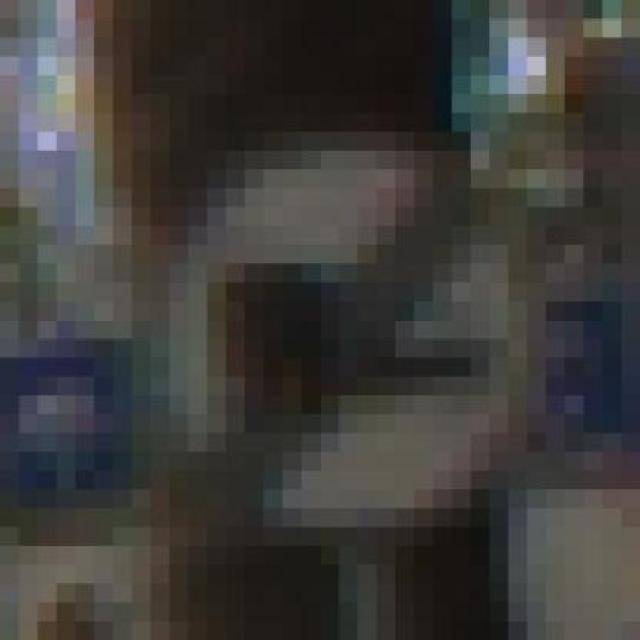Overtaking by trucks is prohibited: (112, 132, 565, 583)
